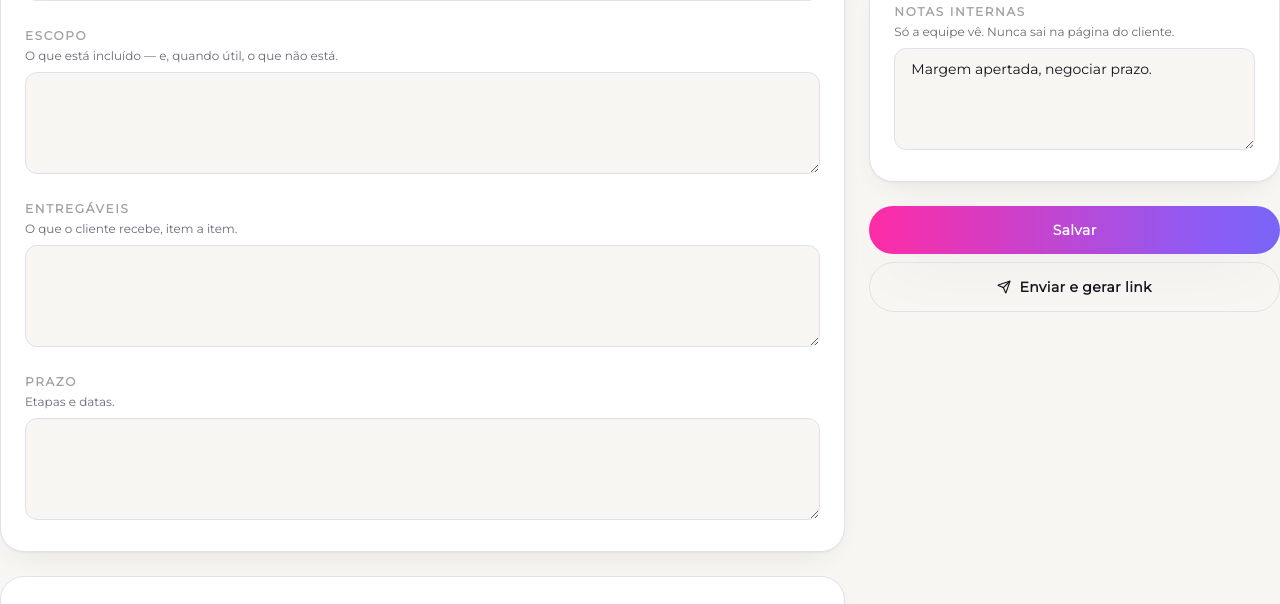
Test case: editor de proposta › mostra o erro da API sem inventar mensagem
The image size is (1280, 604).
(page scrolled)
Click the button "Enviar e gerar link" at (1075, 287), box top-left (869, 262), bottom-right (1279, 312)
(page scrolled)
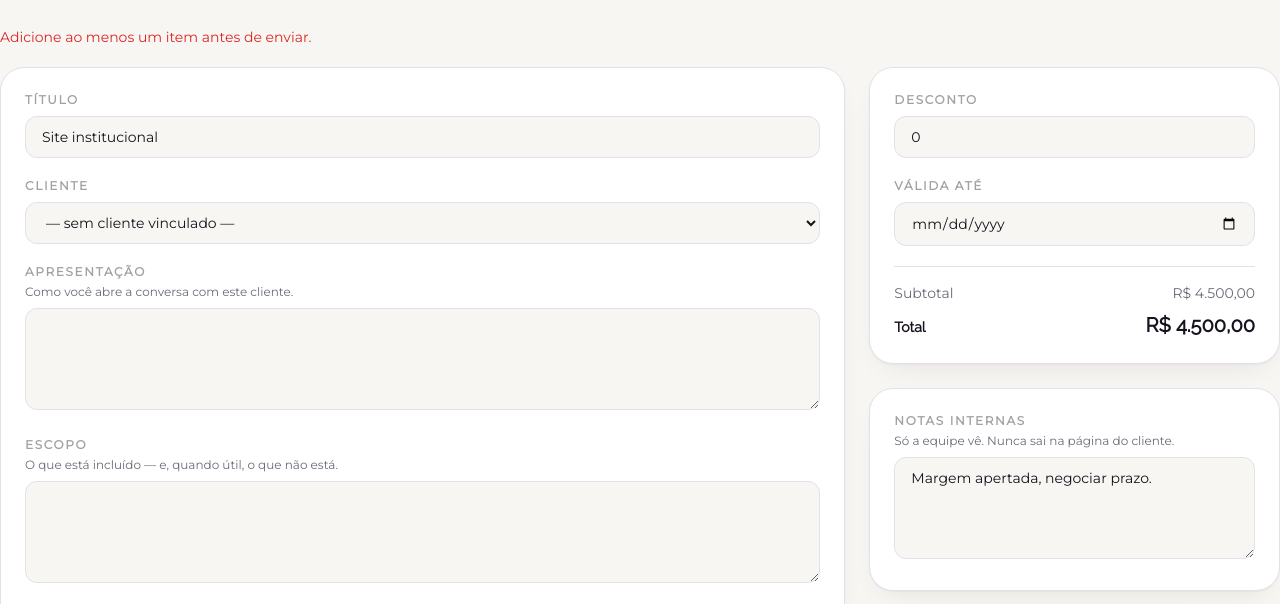
Check: the message shows "ao menos um item", box top-left (0, 28), bottom-right (311, 46)
